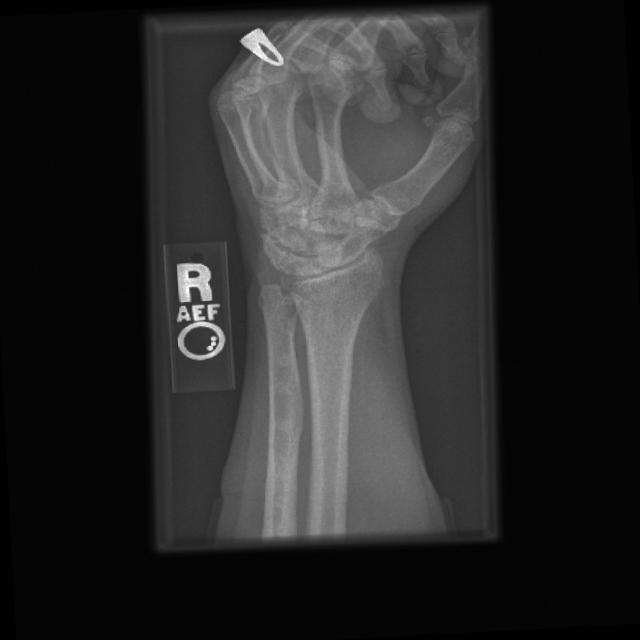wrist positive: (286, 281, 353, 323), (280, 252, 345, 286)
